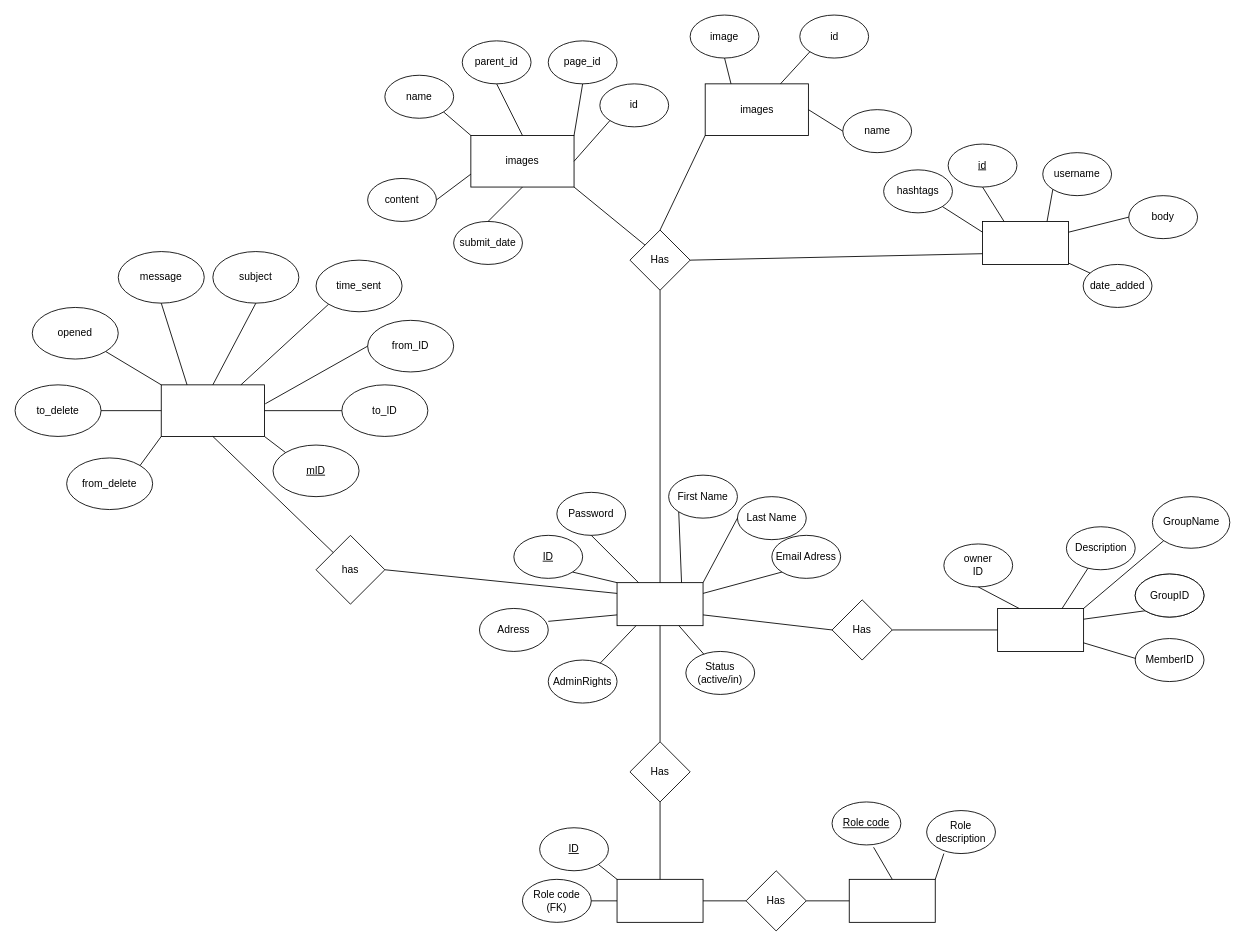
Some shapes in this 1245 by 946 pixel diagram are drawn without their labels. The centre of each missing label's shape, as x and y in pixels:
Connections: point (659, 900)
Groups: point (1040, 629)
Members: point (659, 604)
pm: point (212, 410)
posts: point (1025, 242)
Role: point (891, 900)
